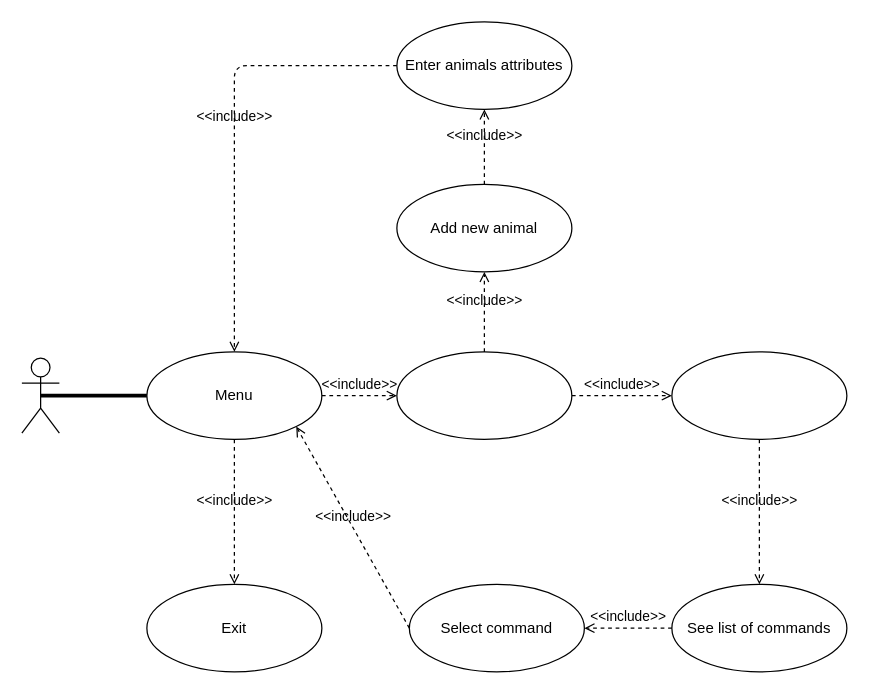
Image size: 869x694. Some labels were removed from this diagram. The shapes that lost their labels are listed below. From the top down, each one's centre as x and y in pixels, then its label:
At [40,395]: "Actor".
At [484,395]: "See list of animals & choice of animal".
At [759,395]: "Add new command".
